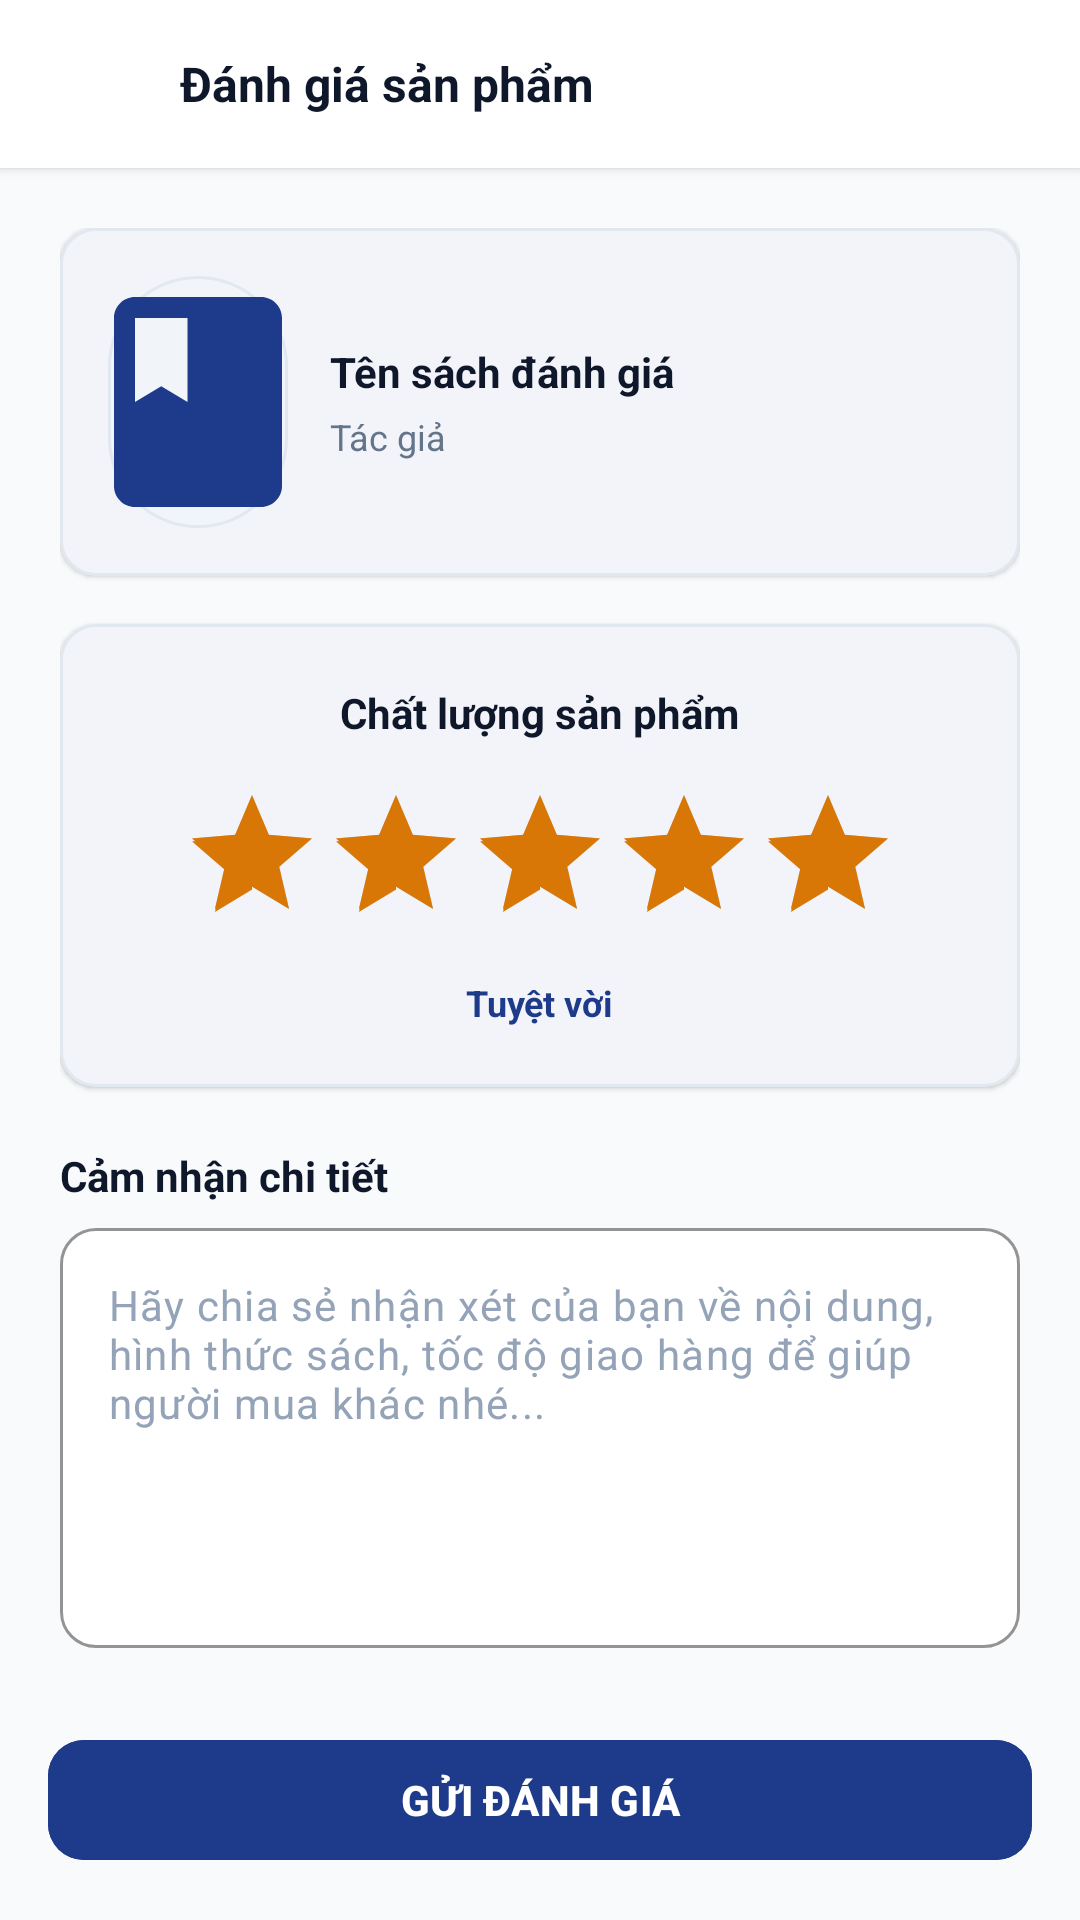

Screen size 1080px×1920px. Icon name, then its box in pixels as (x1, y1, x2, y2):
book: (114, 297, 282, 507)
